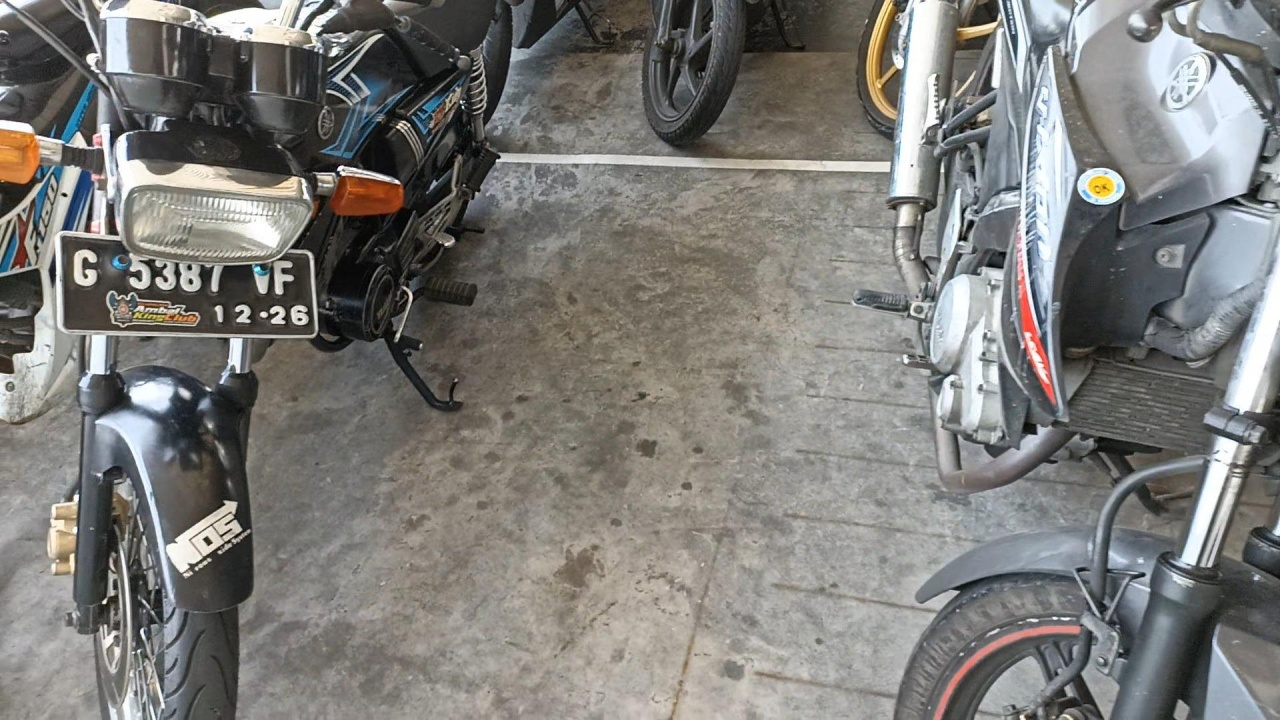plate: (55, 232, 318, 337)
